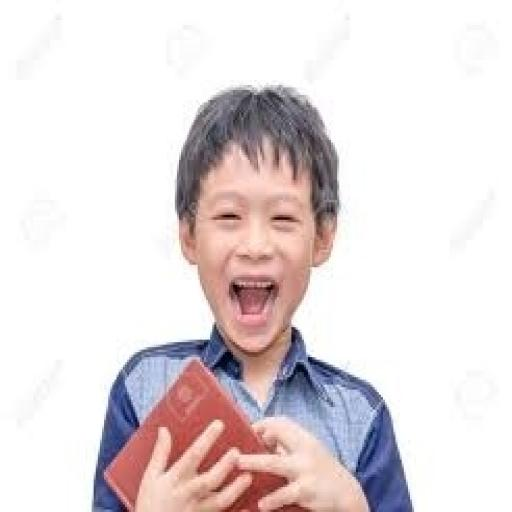laughing: (81, 75, 431, 509)
